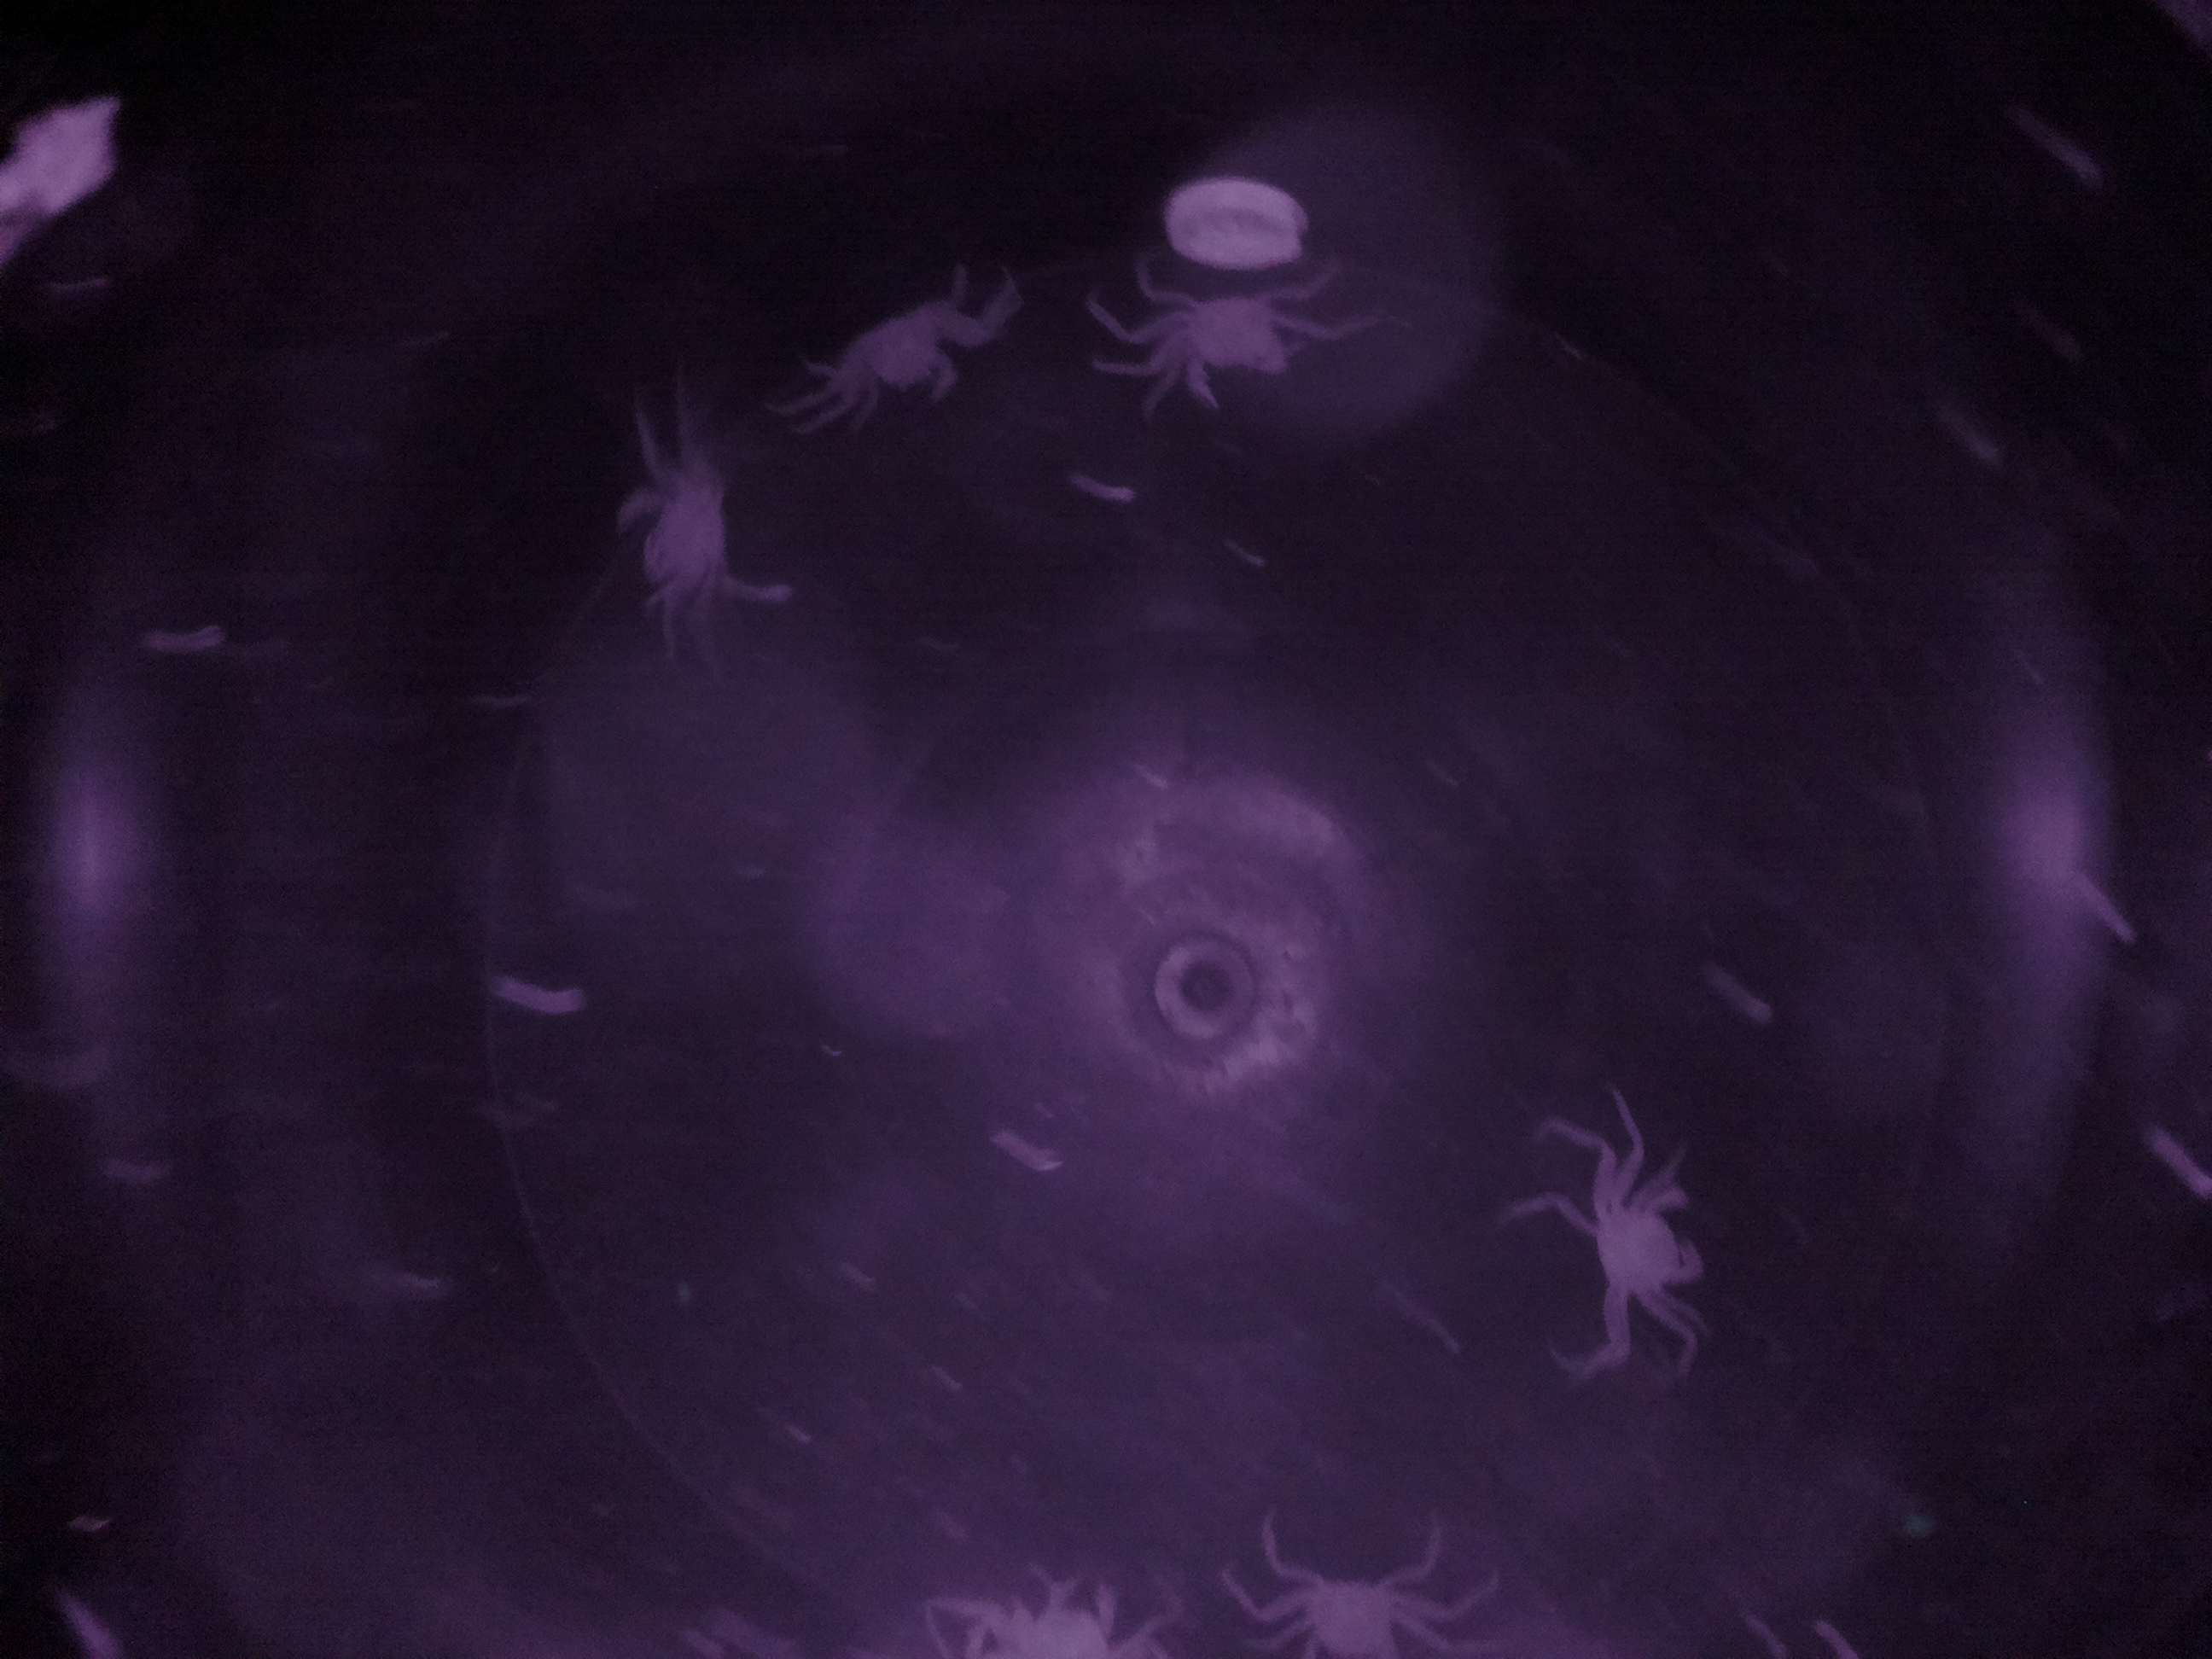Crab: (1569, 1150, 1728, 1361), (590, 432, 766, 622), (1113, 253, 1303, 413), (1258, 1535, 1446, 1659)
